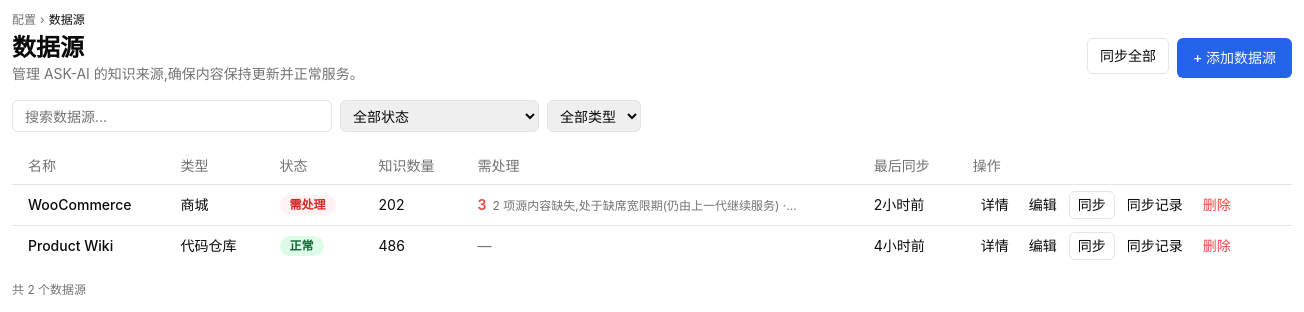
Test: v1.6.3 B1 数据源列表收敛(hard ref panel 1) › 搜索框按名称过滤(呈现层)
This screenshot has width=1304, height=312.
Type "Wiki" into the field with placeholder "搜索数据源..." at (172, 116), box 12,100 -> 332,132
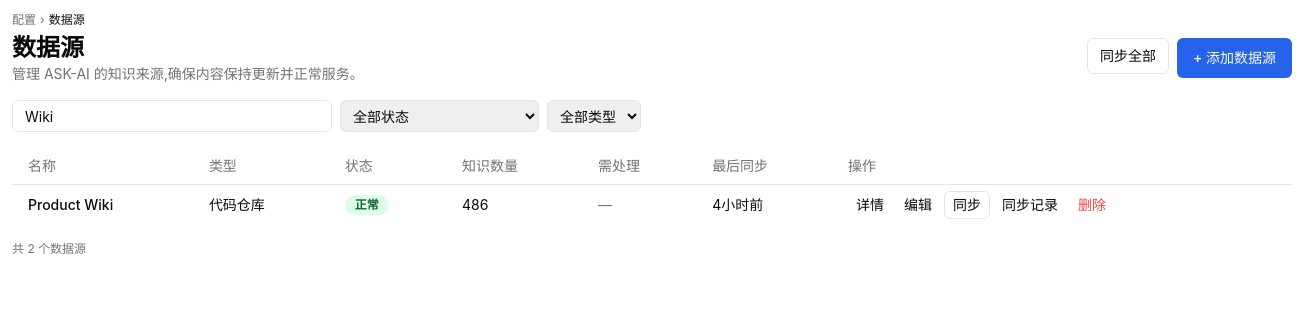
Expected: the button "Product Wiki" is shown, 28,196 -> 113,213
Expected: the button "WooCommerce" is gone
